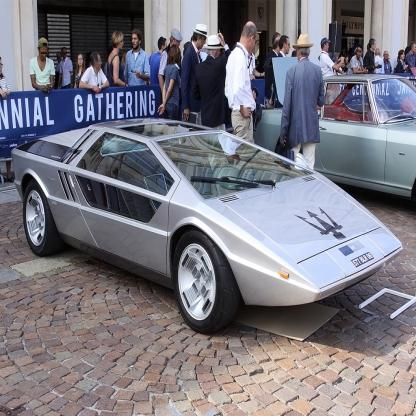Car: (12, 119, 405, 335), (254, 58, 416, 202)
